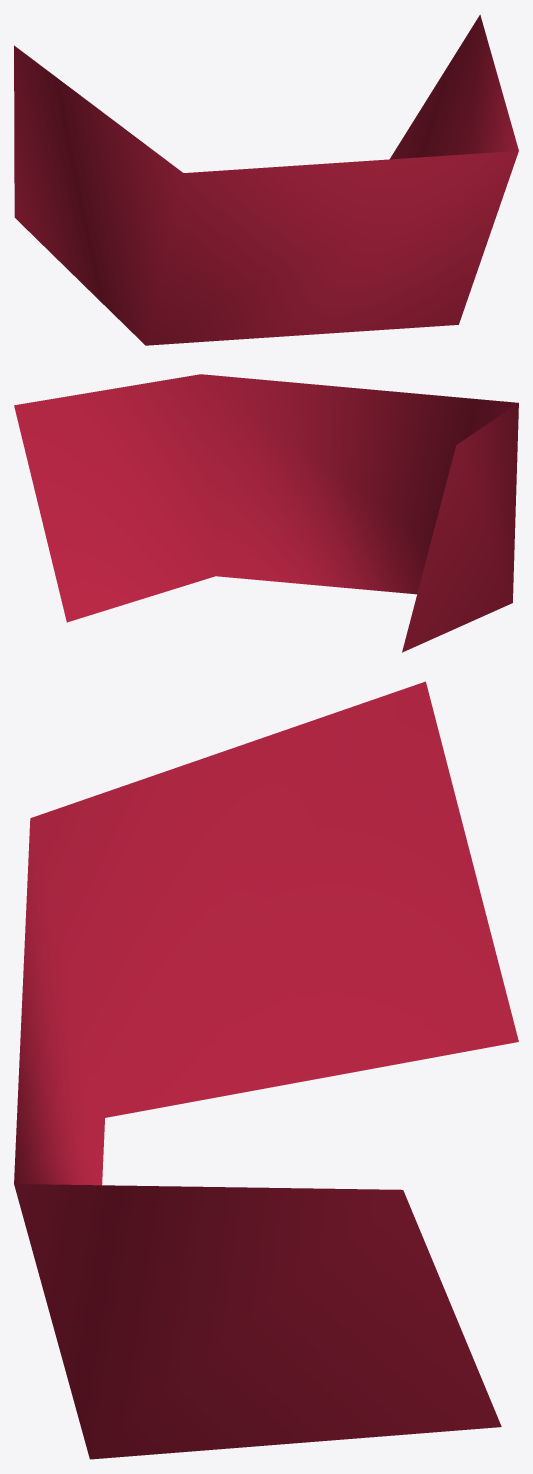
The picture shows the model from 3 angles, top to bottom: view 1: azimuth 30°, elevation 25°; view 2: azimuth 150°, elevation 25°; view 3: azimuth 270°, elevation 25°; orthographic projection. The views are drawn at different scales.
Parts seen in each view (by area): view 1: ef_444; view 2: ef_444; view 3: ef_444.
Boxes of the visible parts, <box> form: ef_444: <box>14,14,518,345</box>; ef_444: <box>14,374,518,652</box>; ef_444: <box>14,681,518,1459</box>.
Bounding box in the file's own units: 0.7197 × 0.4359 × 0.4048.
1 material, 1 textured.
